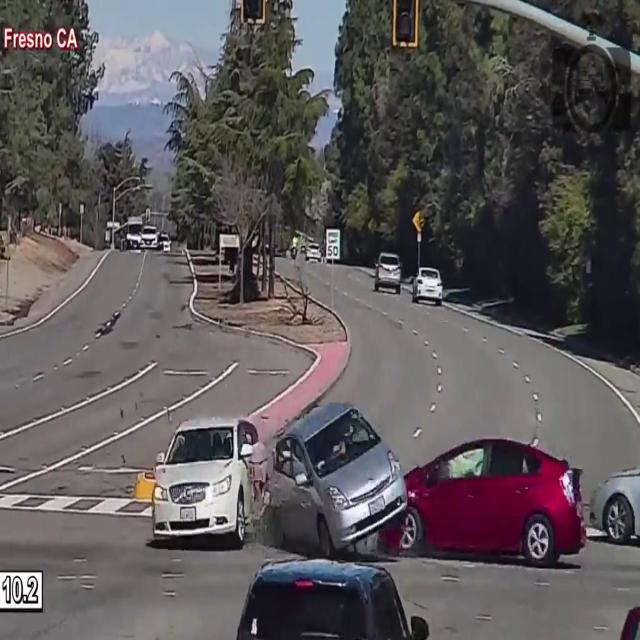accident: (146, 390, 600, 574)
